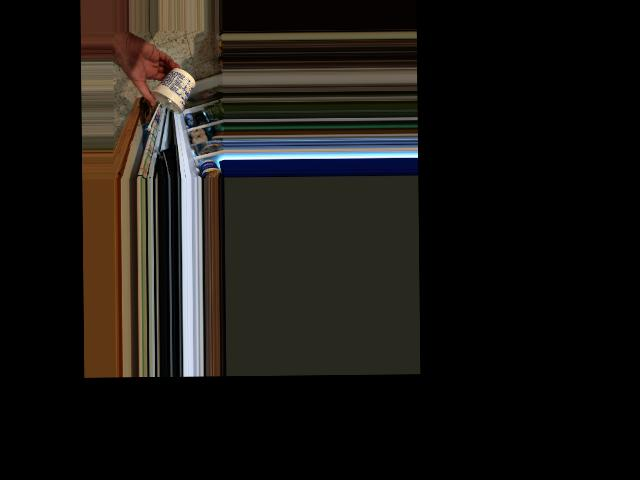cotage: (150, 65, 190, 116)
